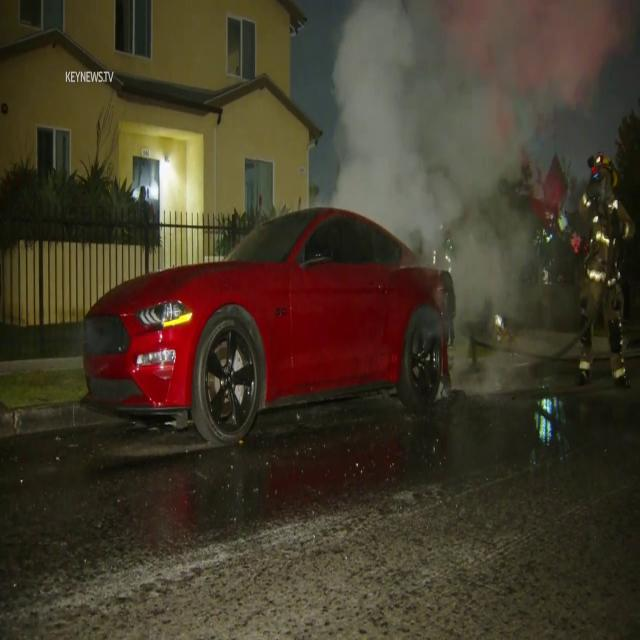Smoke: (320, 0, 585, 260)
